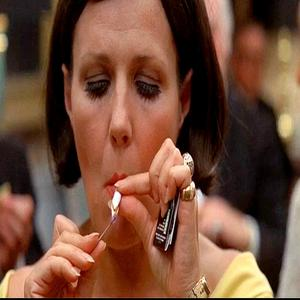cigarette: (109, 183, 123, 216)
